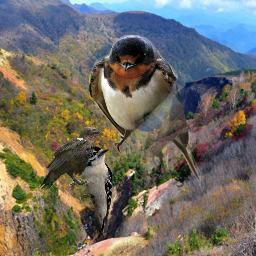Crow: (38, 127, 100, 190)
Swallow: (89, 35, 201, 181)
Woodpecker: (80, 146, 113, 238)
